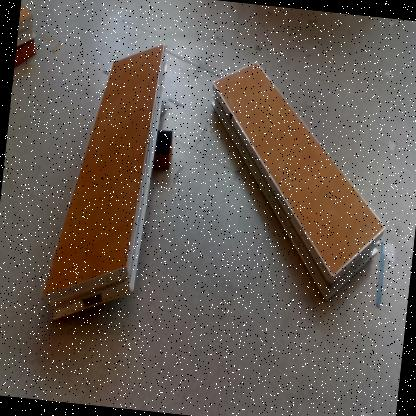Stairs: (210, 58, 389, 306), (41, 43, 169, 325), (16, 2, 36, 54)
